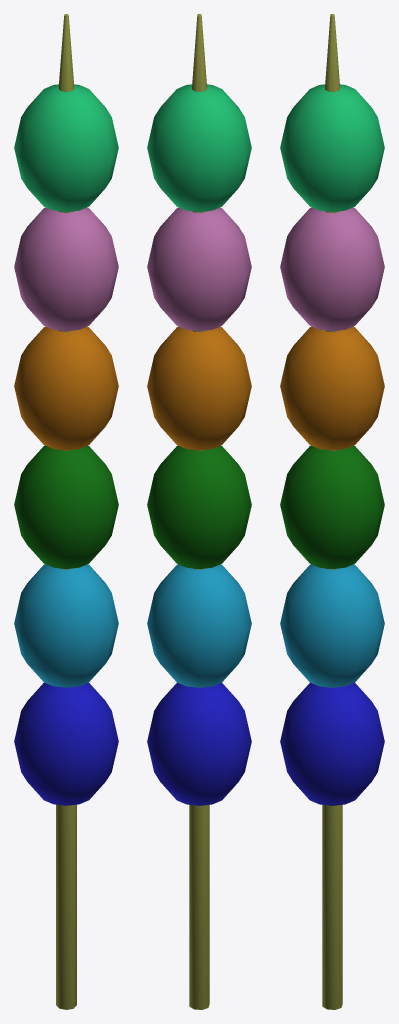
File: GinkgoNut Kkochi.fbx
3 views of the same model, side by side, from view 1: azimuth 90°, elevation 25°; view 2: azimuth 150°, elevation 25°; view 3: azimuth 330°, elevation 25° (orthographic).
Visible parts, largest first — view 1: Ginkgo nut Kkochi; view 2: Ginkgo nut Kkochi; view 3: Ginkgo nut Kkochi.
Boxes of the visible parts, x1,y1,x2,y2 form: Ginkgo nut Kkochi: [14, 14, 118, 1009]; Ginkgo nut Kkochi: [147, 14, 251, 1009]; Ginkgo nut Kkochi: [280, 14, 384, 1009].
Size of the model in its own units: 5.34 by 5.34 by 55.8.
